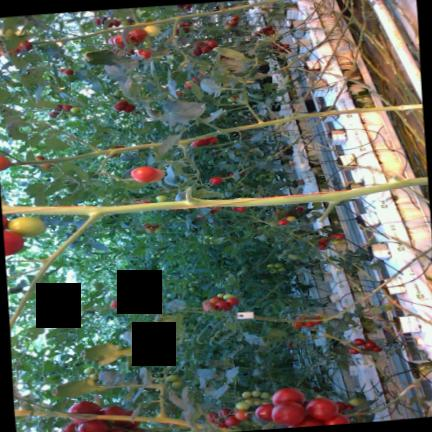6kp_peduncle: (100, 146, 124, 169), (74, 33, 93, 43)
6kp_petiole: (58, 204, 128, 249), (145, 400, 180, 422), (199, 119, 233, 135), (79, 139, 110, 156), (248, 108, 274, 127), (167, 13, 189, 32)
MainStem: (1, 176, 428, 213), (253, 245, 432, 321), (30, 0, 283, 43), (176, 102, 422, 144), (251, 0, 349, 78), (326, 0, 366, 110), (9, 141, 162, 165), (265, 116, 325, 159), (348, 77, 393, 105), (135, 415, 190, 426), (77, 412, 130, 419)
tomato: (271, 400, 305, 425), (7, 215, 45, 236), (305, 397, 338, 419), (68, 400, 99, 418), (271, 387, 304, 403), (3, 229, 23, 254), (113, 410, 139, 428), (77, 418, 108, 432), (130, 165, 156, 181), (289, 416, 323, 426), (254, 403, 273, 420), (323, 412, 349, 424), (128, 28, 146, 44), (99, 405, 124, 414), (149, 167, 164, 181), (143, 25, 160, 35), (224, 414, 239, 425), (17, 40, 32, 51), (0, 46, 18, 55), (233, 409, 248, 419), (61, 422, 75, 432), (0, 154, 9, 169), (202, 302, 217, 311), (114, 33, 124, 46), (206, 411, 217, 422), (137, 48, 150, 57), (235, 401, 249, 409), (335, 400, 346, 410), (348, 397, 361, 405), (216, 300, 229, 308), (107, 427, 127, 432), (166, 373, 178, 381), (226, 296, 238, 304), (209, 295, 221, 303), (109, 300, 122, 307), (209, 176, 222, 183), (218, 407, 229, 415), (171, 379, 182, 387), (123, 103, 134, 111), (155, 194, 167, 201), (363, 340, 375, 347), (329, 233, 343, 239), (207, 39, 217, 47), (351, 338, 364, 344), (347, 346, 358, 353), (200, 45, 211, 52), (190, 48, 201, 55), (222, 292, 234, 298), (241, 390, 251, 397), (123, 299, 133, 306), (317, 236, 327, 243), (62, 103, 72, 110), (227, 94, 237, 101), (14, 28, 24, 35), (40, 162, 51, 168), (293, 321, 304, 327), (191, 139, 202, 145), (113, 103, 124, 109), (371, 345, 381, 351), (260, 391, 270, 397), (217, 420, 227, 426), (83, 367, 93, 373), (131, 295, 141, 301), (277, 218, 287, 224), (69, 106, 79, 112), (62, 68, 72, 74), (227, 19, 237, 25), (245, 398, 254, 404), (251, 390, 260, 396), (88, 372, 97, 378), (49, 111, 58, 117), (4, 28, 13, 34), (34, 154, 44, 159), (285, 215, 295, 220), (318, 243, 326, 249), (230, 14, 238, 20), (345, 403, 354, 408), (304, 321, 313, 326), (193, 41, 202, 46), (210, 136, 217, 142), (330, 239, 340, 243), (59, 113, 67, 118), (274, 262, 283, 266), (236, 206, 245, 210), (253, 399, 260, 404), (216, 292, 224, 296), (269, 268, 277, 272), (117, 100, 127, 103), (56, 103, 61, 109), (267, 263, 274, 267), (277, 266, 284, 270), (0, 28, 4, 35), (231, 206, 237, 210)
